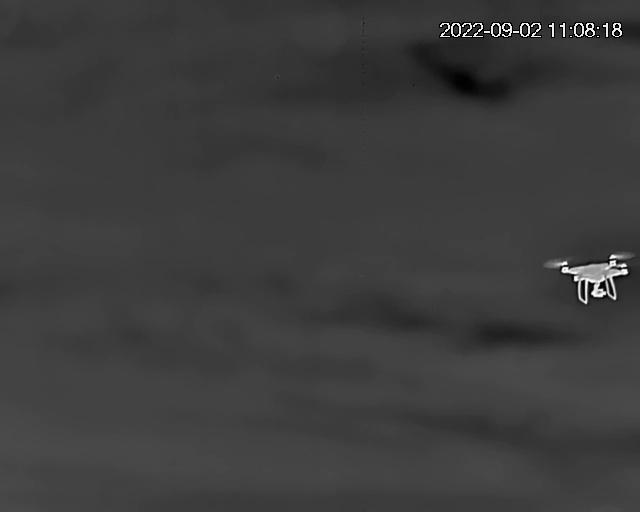DJI-Phantom: (554, 256, 637, 306)
